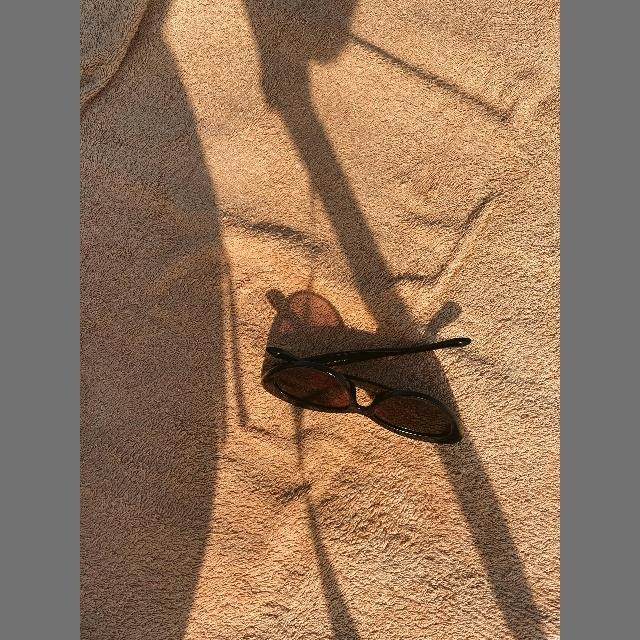Sunglasses: (260, 327, 472, 445)
